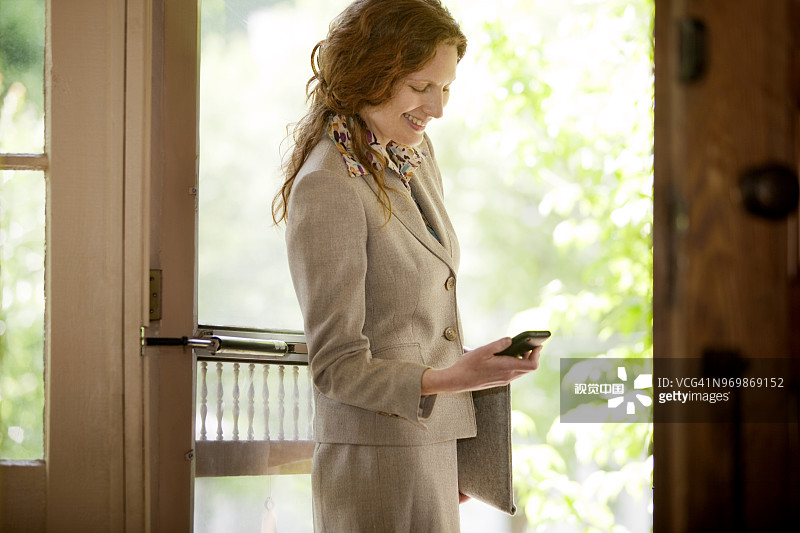reading: (424, 327, 560, 401)
